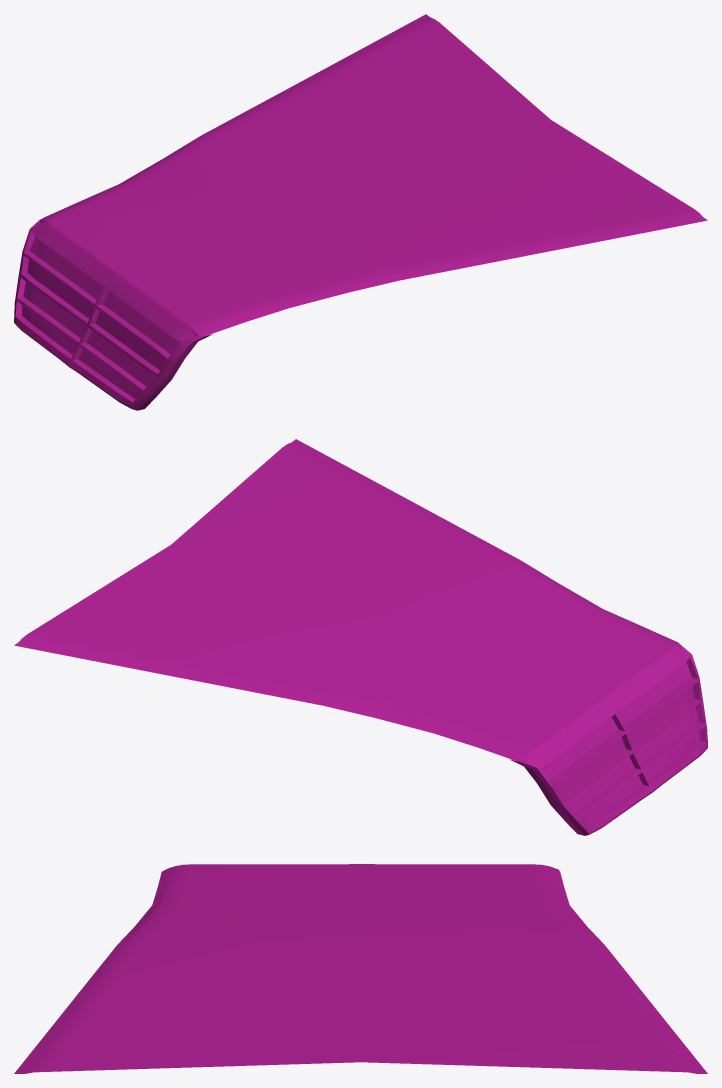
The model's file is Cofre_ANC.obj.
The picture shows the model from 3 angles, top to bottom: view 1: azimuth 30°, elevation 25°; view 2: azimuth 150°, elevation 25°; view 3: azimuth 270°, elevation 25°; orthographic projection. The views are drawn at different scales.
Parts seen in each view (by area): view 1: Cofre; view 2: Cofre; view 3: Cofre.
Part boxes in pixels (x1=…): Cofre: x1=14, y1=14, x2=707, y2=410; Cofre: x1=14, y1=439, x2=707, y2=835; Cofre: x1=14, y1=864, x2=707, y2=1073.
Bounding box in the file's own units: 7.77 × 1.97 × 7.62.
